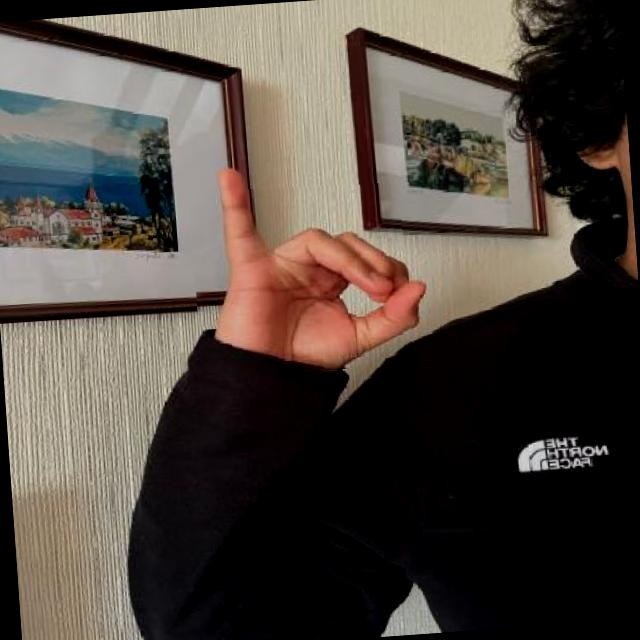D: (184, 147, 433, 380)
